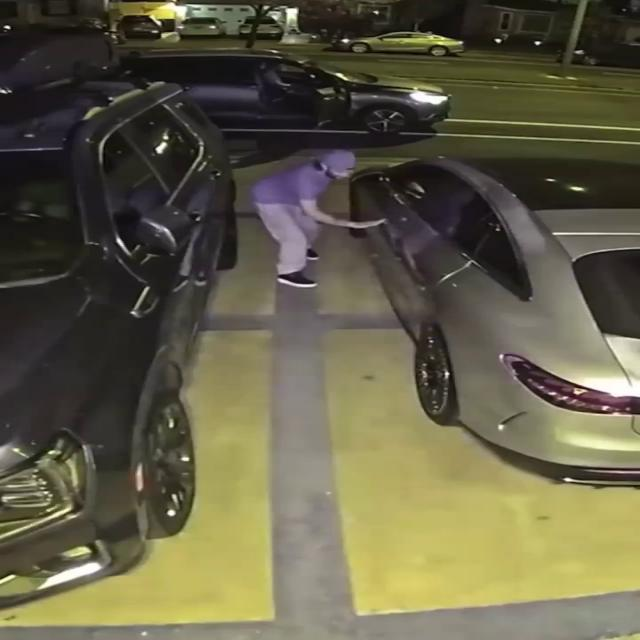Theft - Alert: (348, 156, 639, 486), (251, 150, 385, 288)
